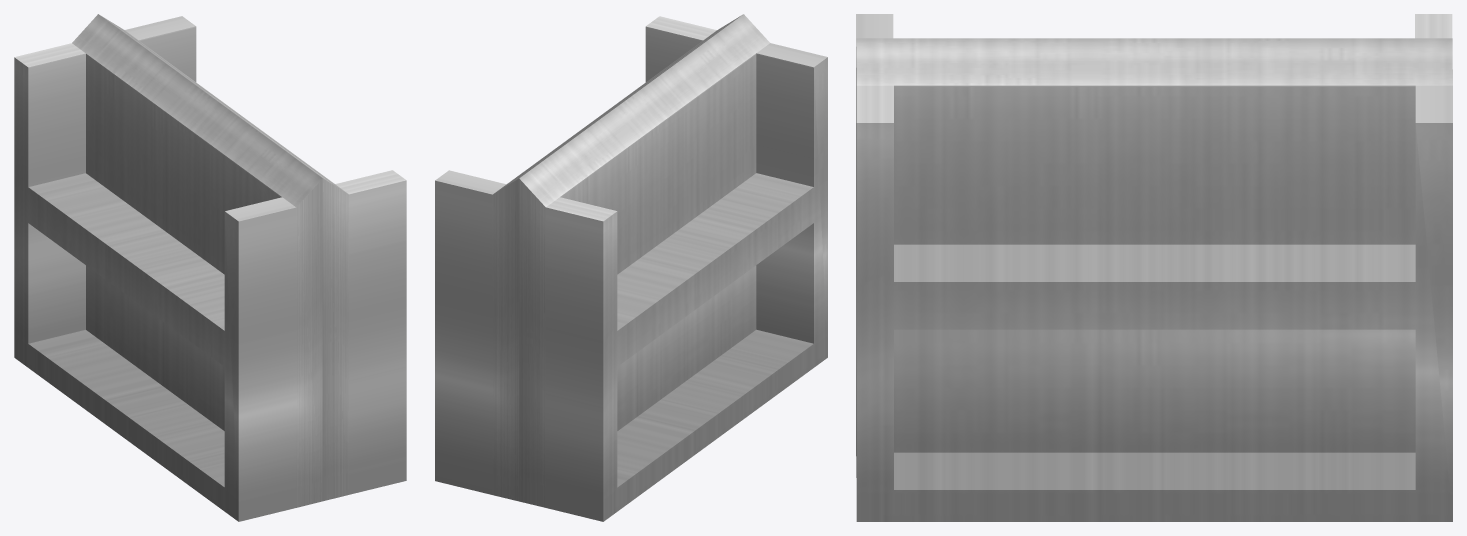
The model's file is gondola_editada.fbx.
3 renders of one model, left to right at view 1: azimuth 30°, elevation 25°; view 2: azimuth 150°, elevation 25°; view 3: azimuth 270°, elevation 25°, orthographic. The views are drawn at different scales.
Visible parts, largest first — view 1: gondola; view 2: gondola; view 3: gondola.
Part boxes in pixels (x1,y1,x2,y2): gondola: (14,14,406,521); gondola: (435,14,827,521); gondola: (856,14,1452,521).
Bounding box in the file's own units: 296 × 544 × 686.
1 material, 1 textured.
